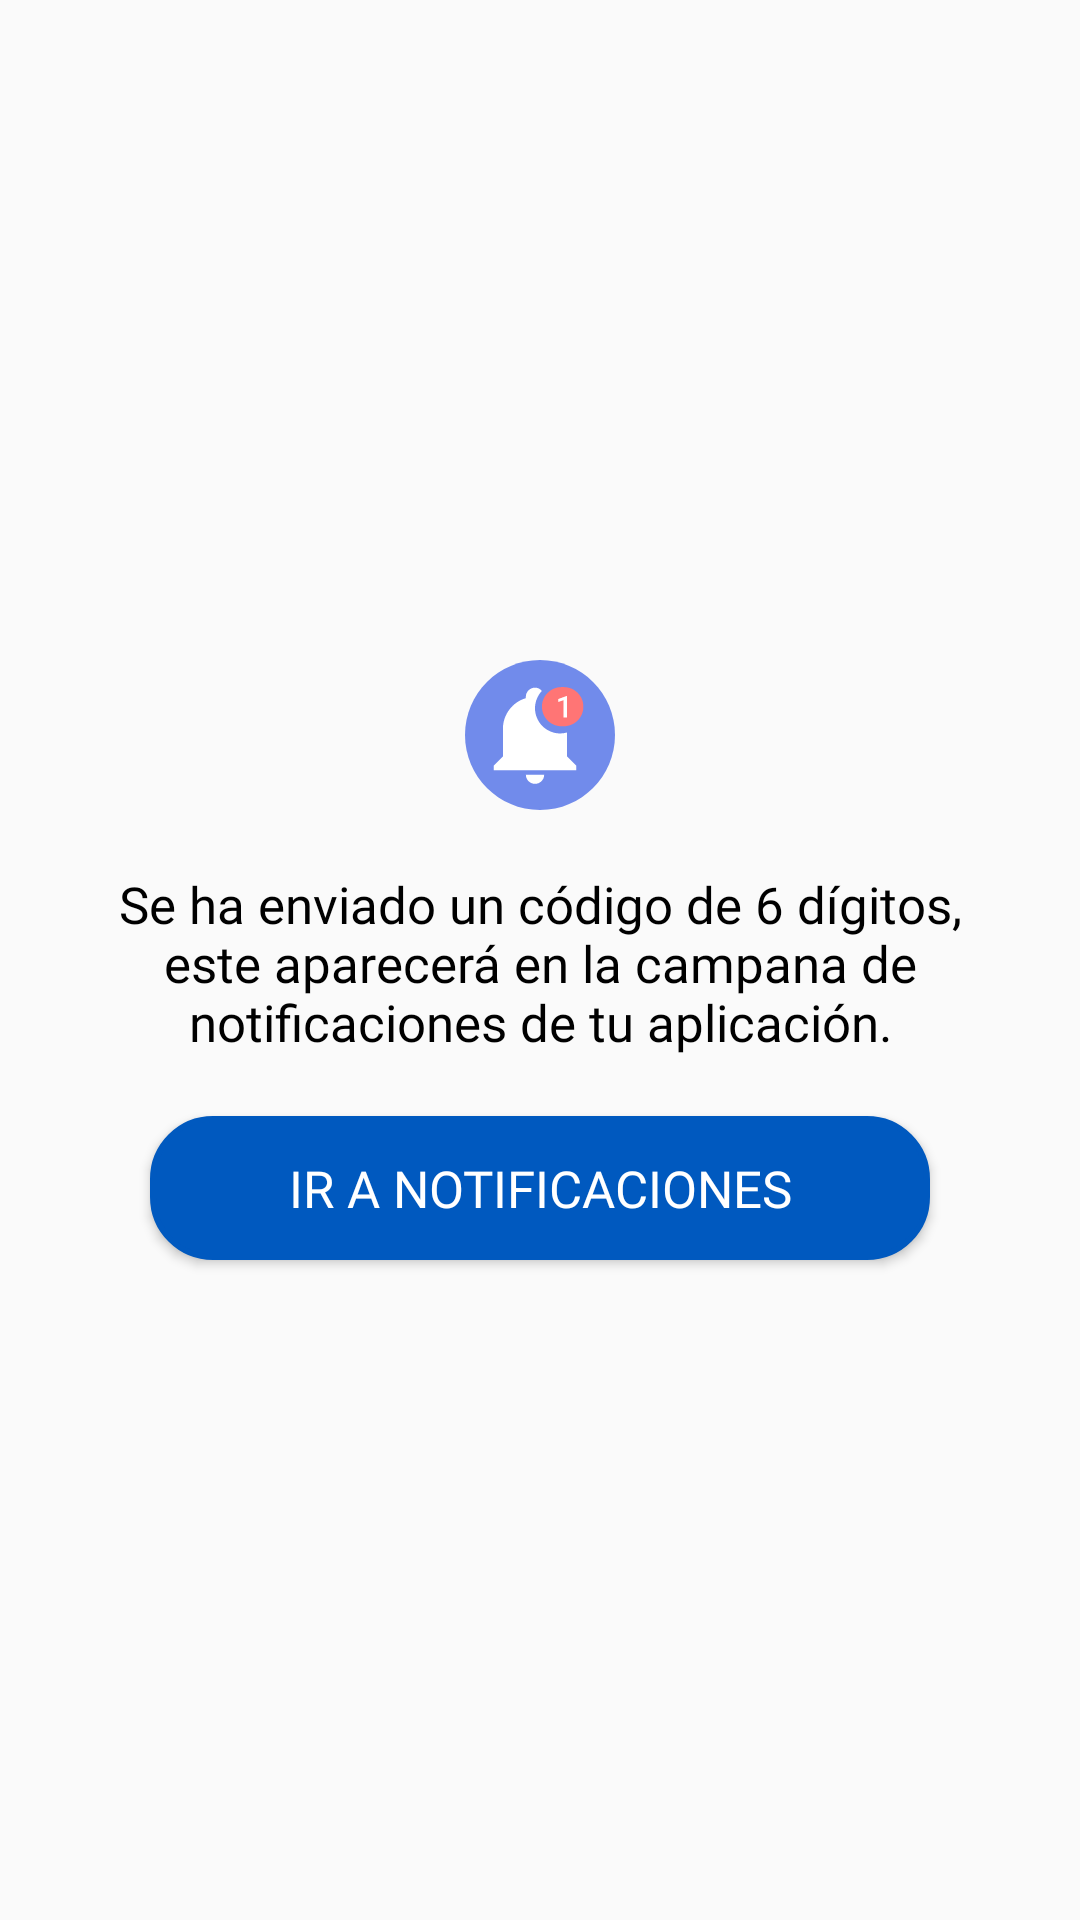

Where icons sit on this 1080 × 1920 app screen, as (x1, y1, x2, y2):
Icono de campana notificaciones: (465, 660, 615, 810)
